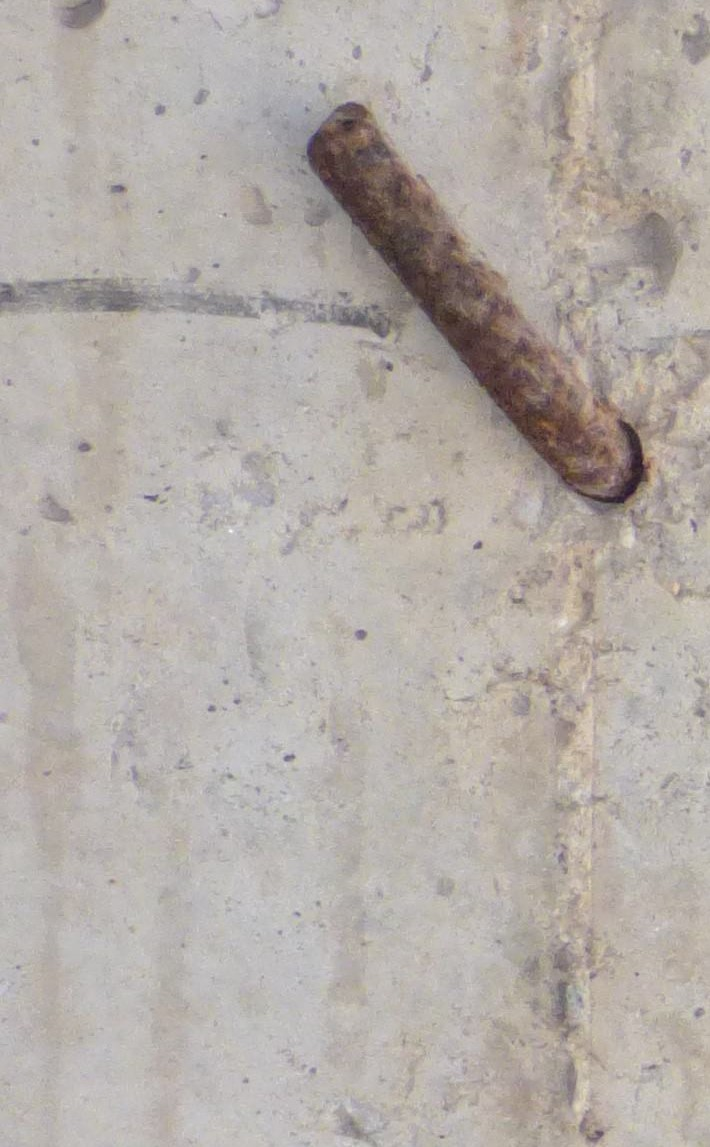Exposed reinforcement: (305, 101, 633, 500)
